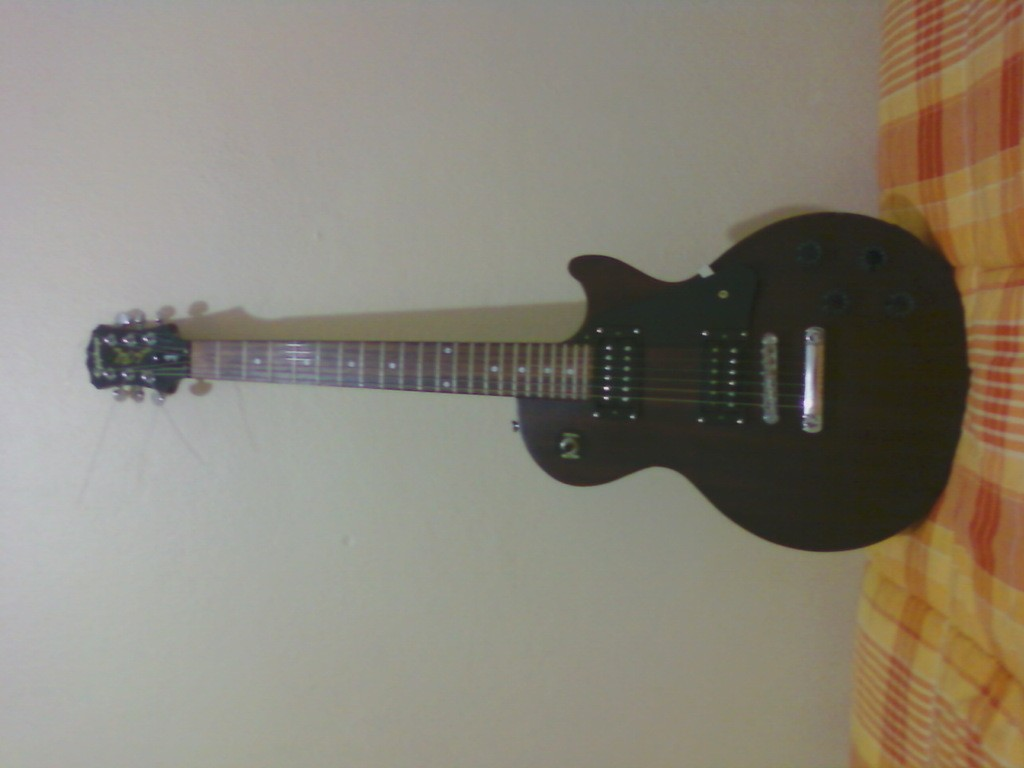guitar: (82, 210, 965, 552)
